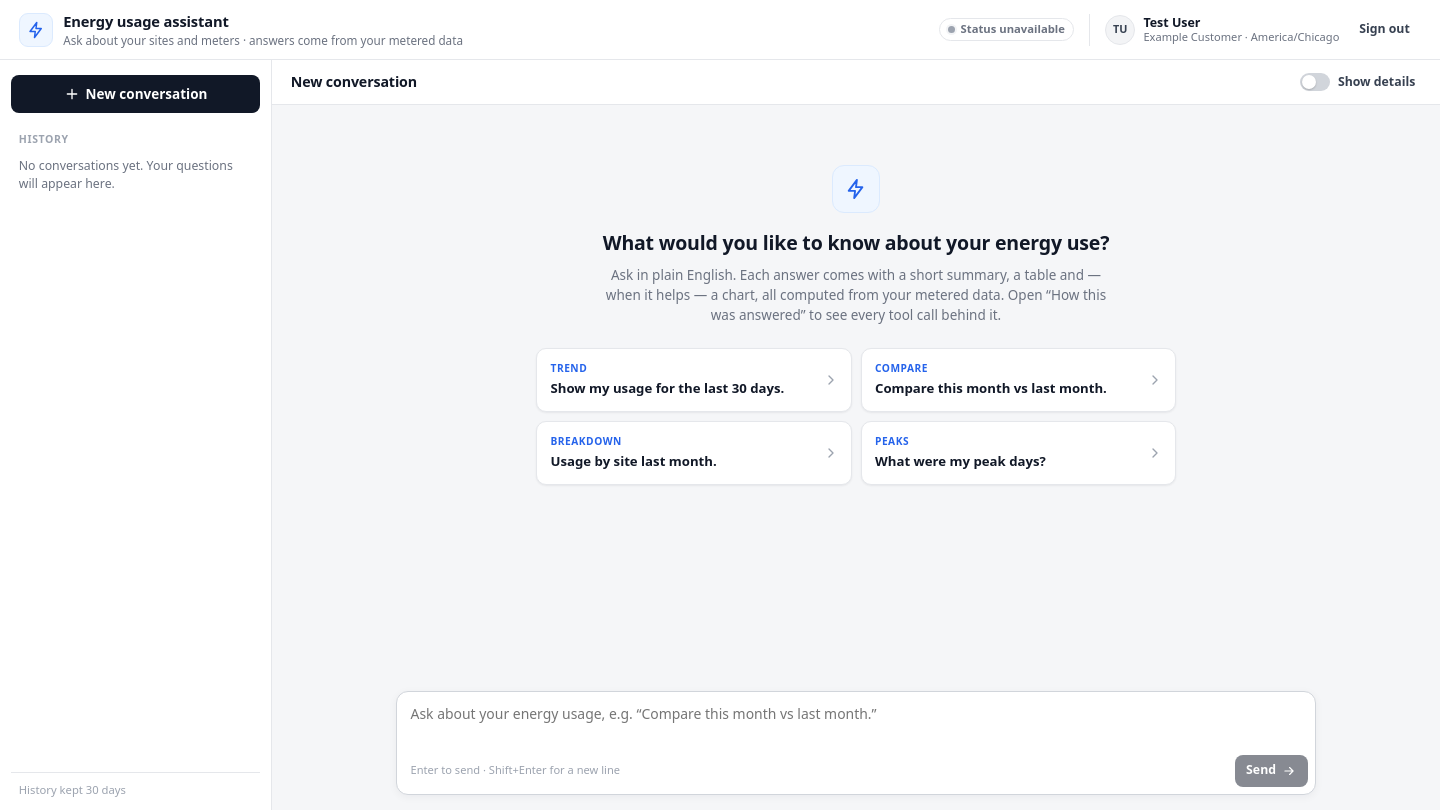
Test: chat flow (dev auth, mocked fetch) › sends the conversationId on follow-ups and falls back to JSON once when the response is not a stream
The image size is (1440, 810).
In the text box labelled "Ask about your energy usage": (856, 721) [397,692,1315,749], type "Show my usage this month."
Then press Enter
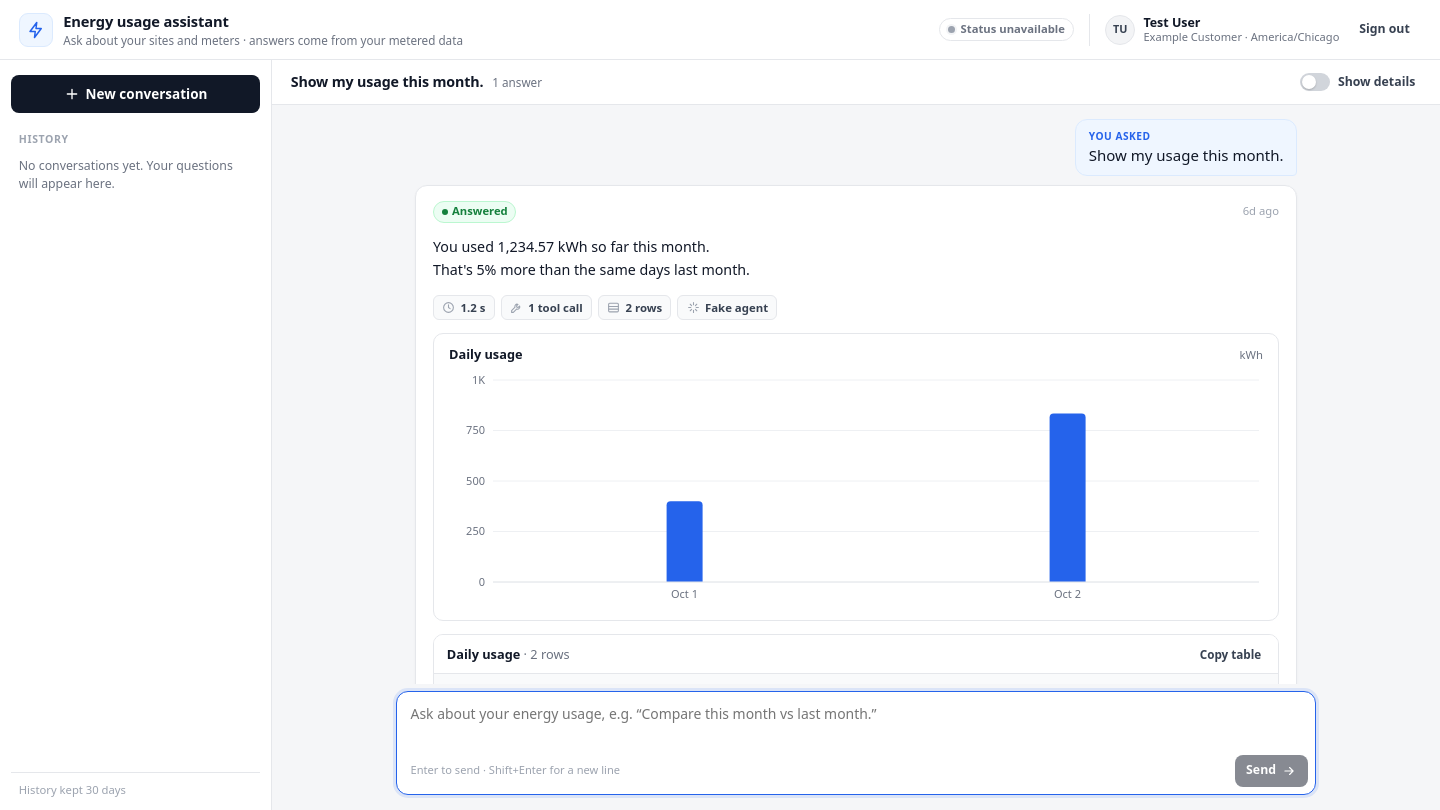
expect the text "You used 1,234.57 kWh" is shown: met, box [433,237,750,279]
In the text box labelled "Ask about your energy usage": (856, 721) [397,692,1315,749], type "and last month?"
Then press Enter
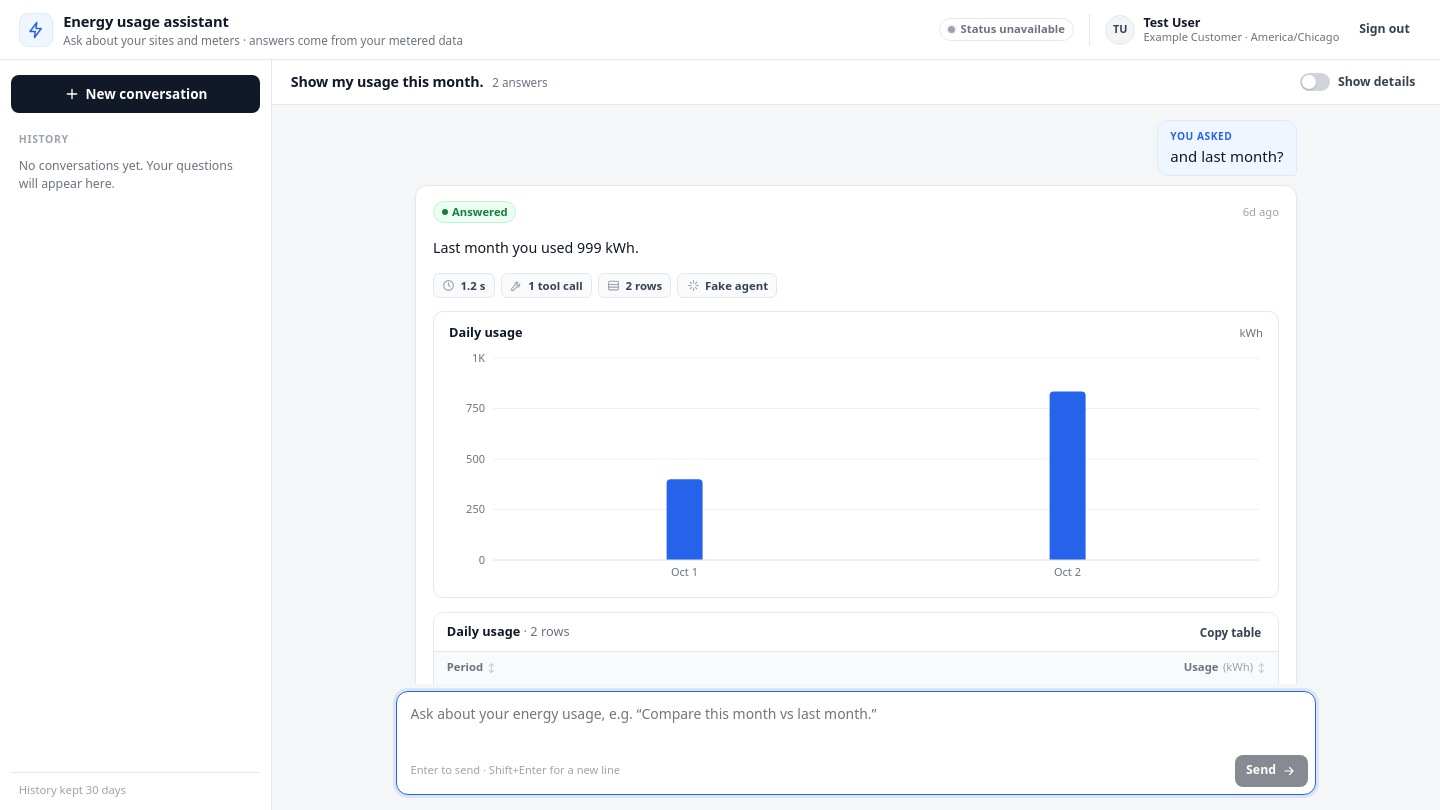
expect the text "Last month you used 999 kWh." is shown: met, box [433,238,639,257]
